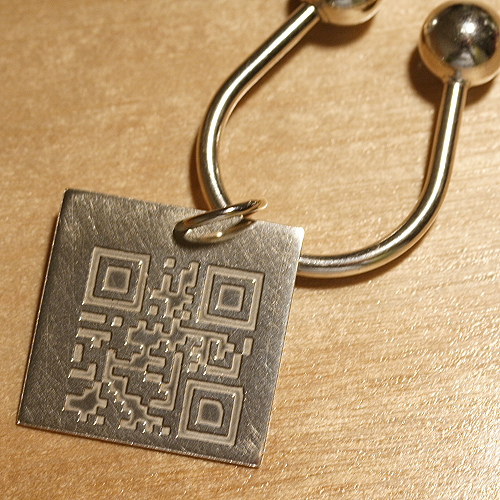QR-CODE: (60, 246, 265, 447)
